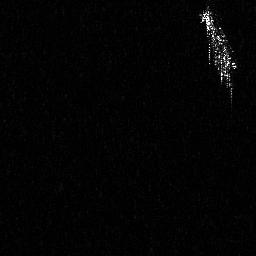ship: (197, 3, 240, 108)
